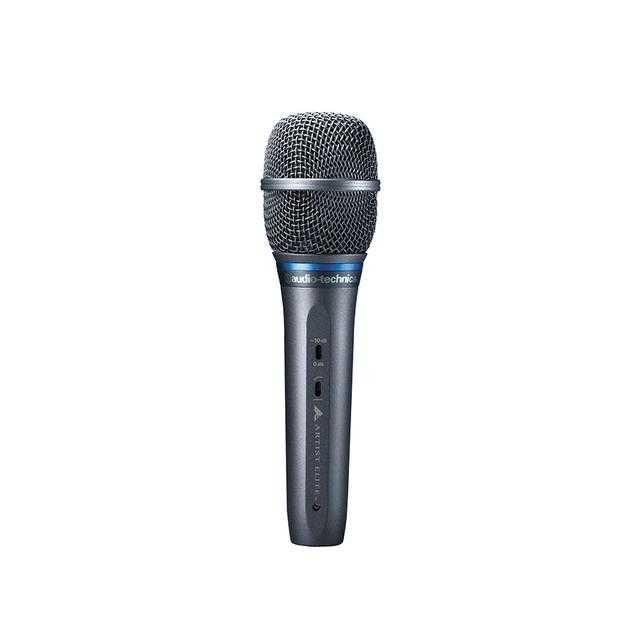microphone: (257, 112, 381, 545)
